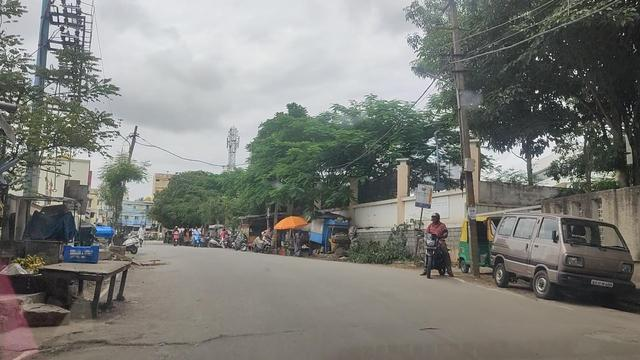RoadDamages: (66, 329, 265, 353)
